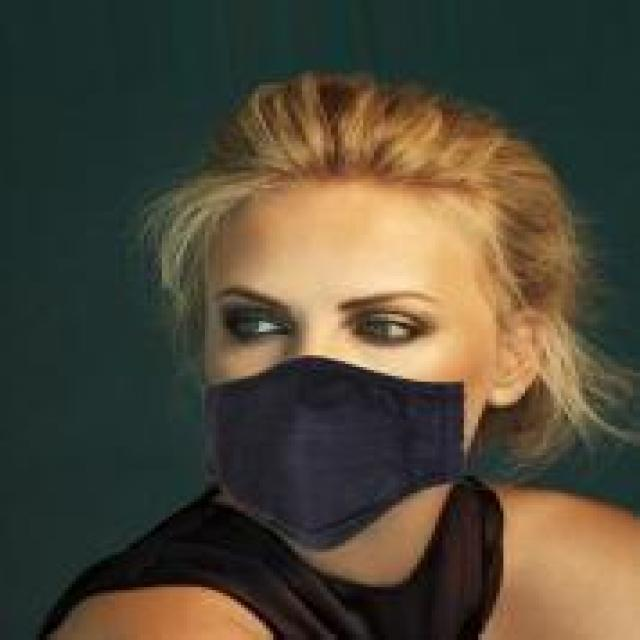mask: (115, 50, 608, 575)
